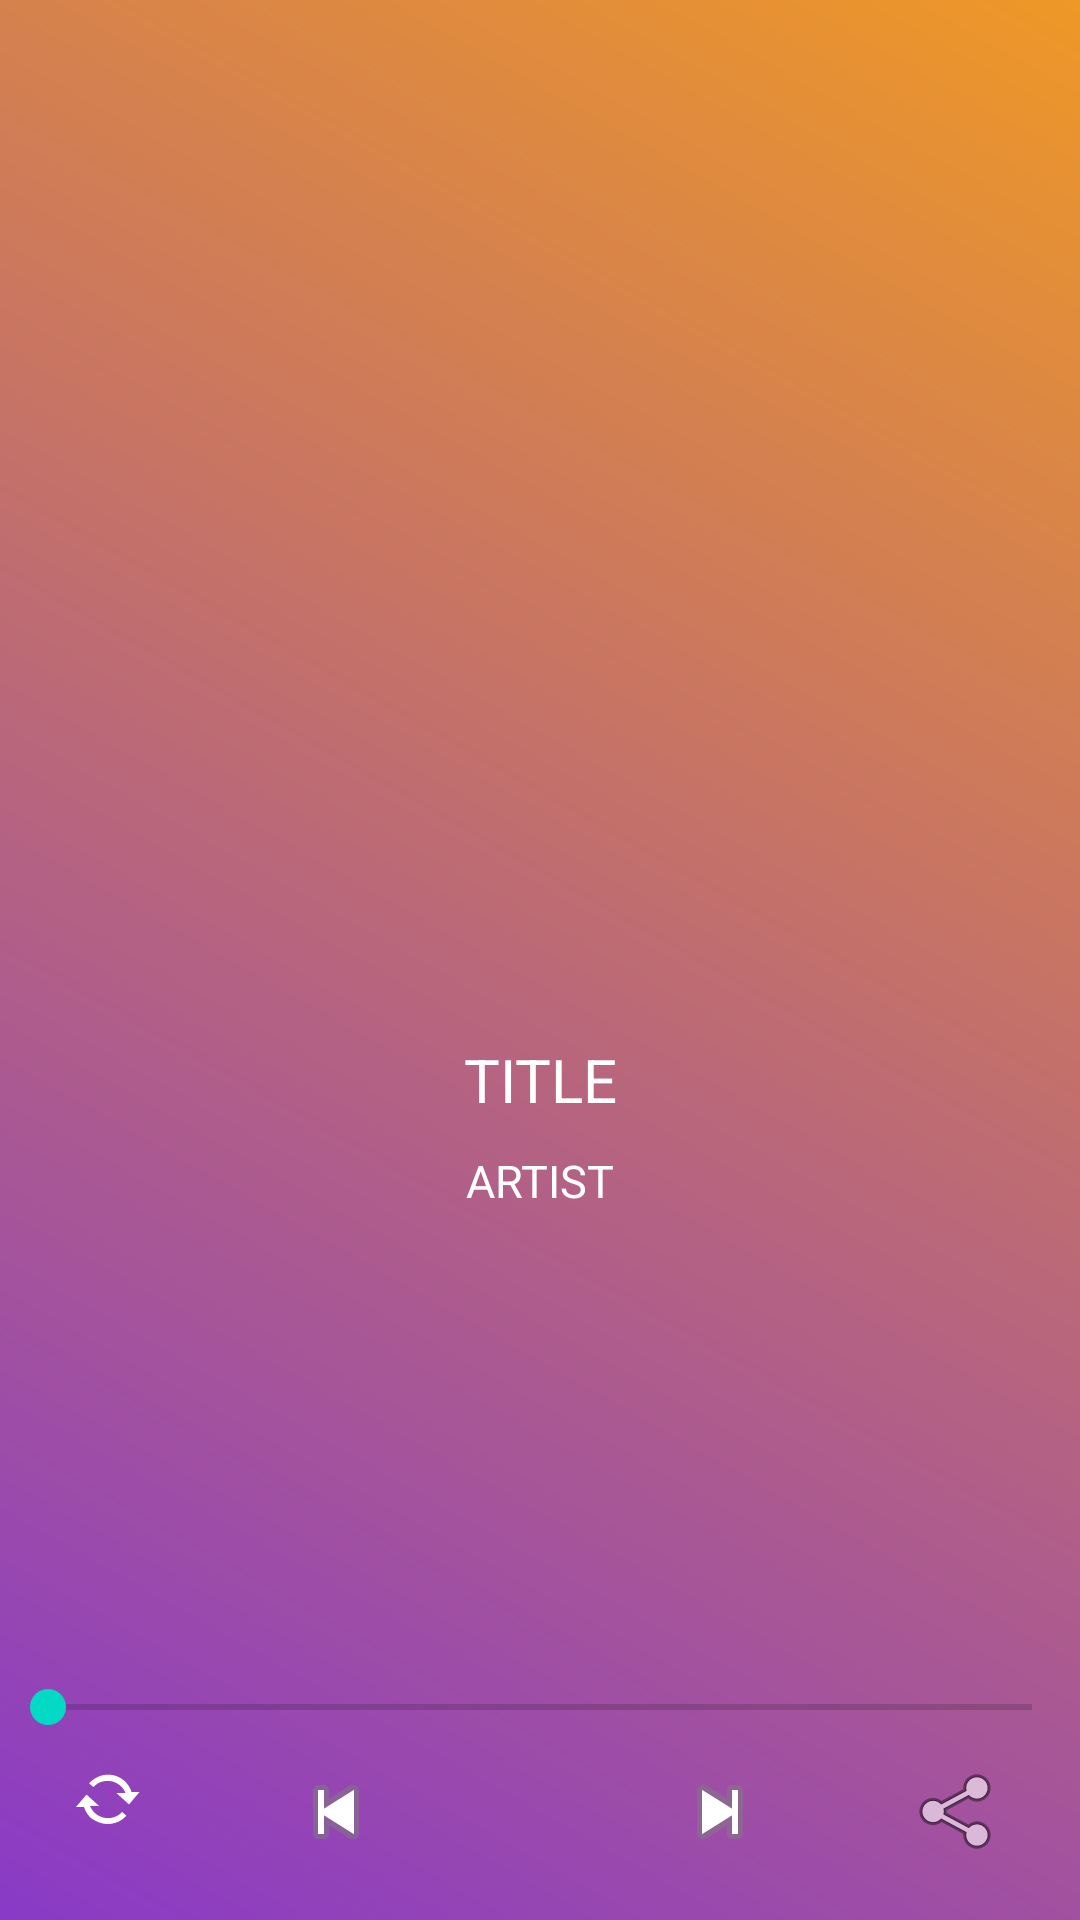

Icon click points for this 1080x1920 phone screenshot, format [x,y]:
next: [720,1812]
previous: [336,1812]
share: [955,1811]
sync: [108,1799]
